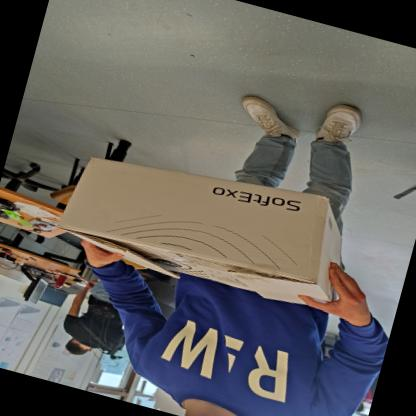box: (43, 134, 383, 344)
